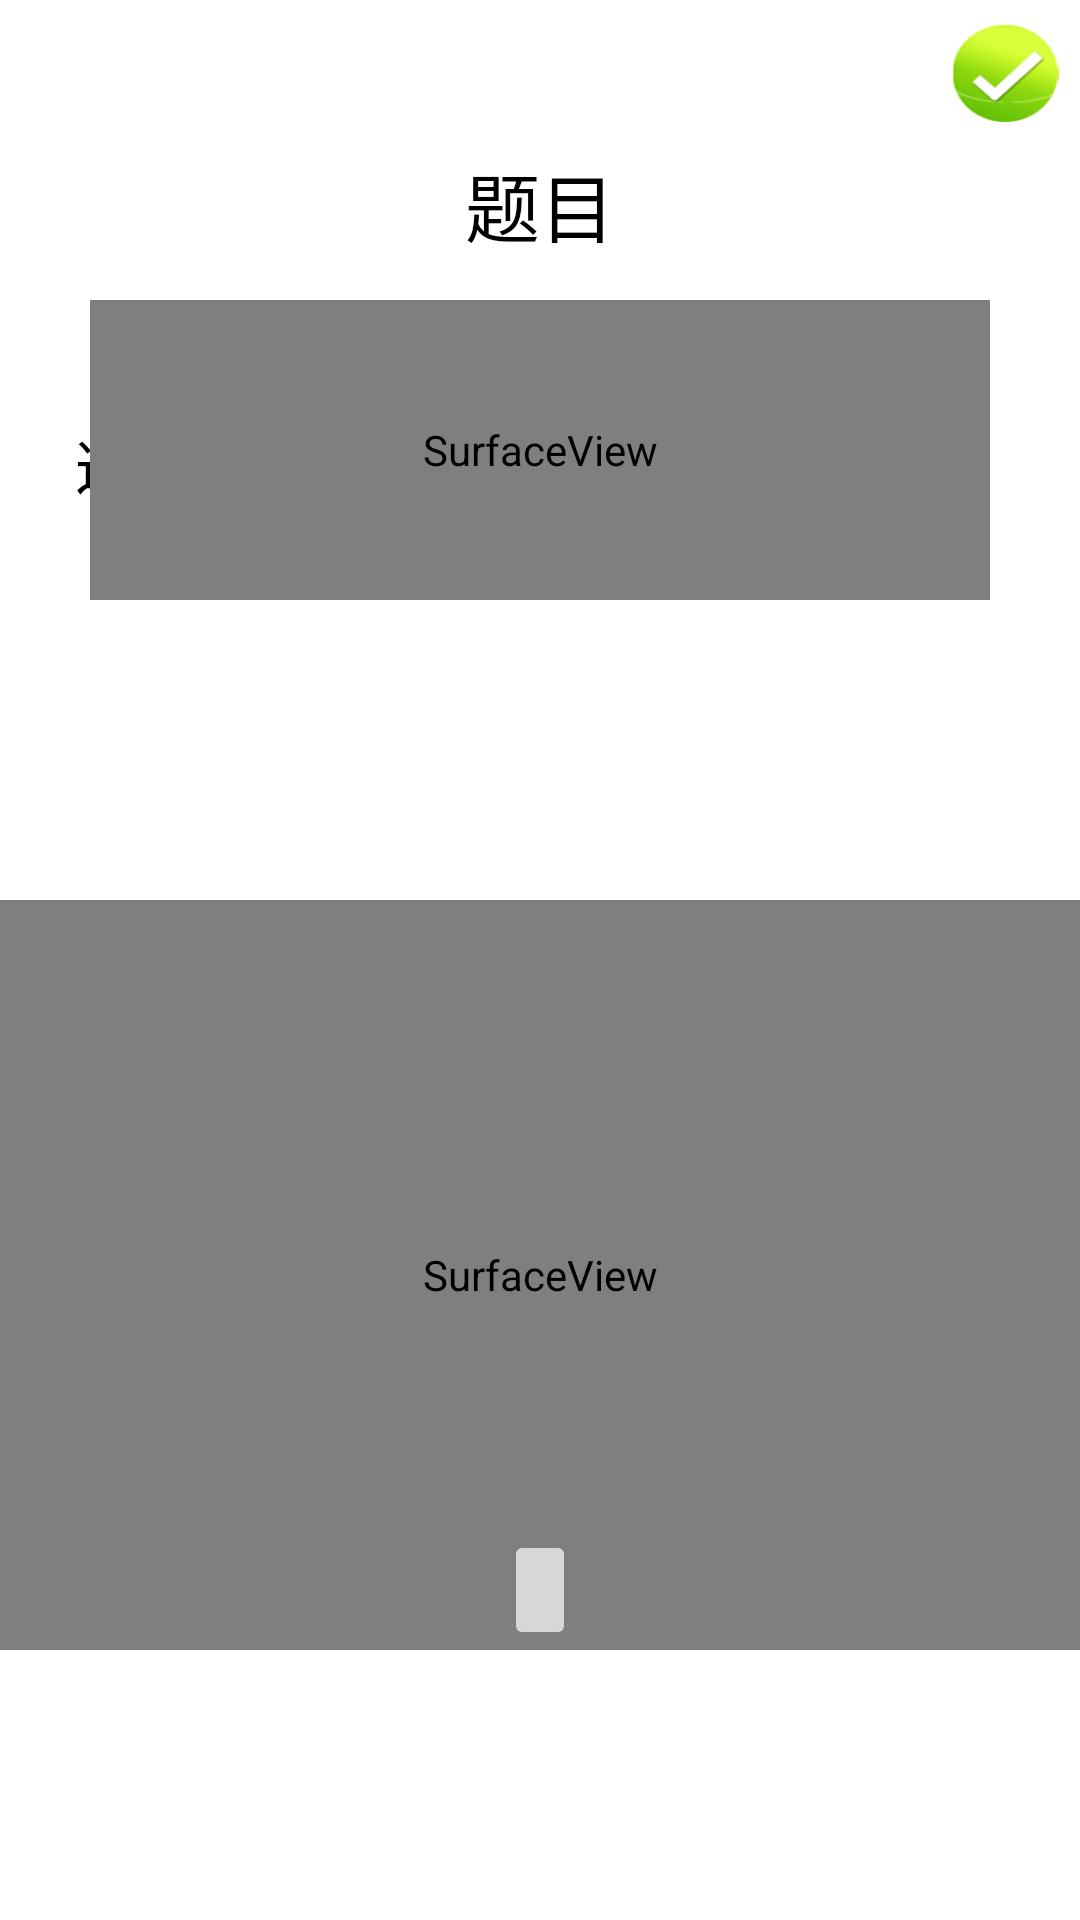

Named icons in this screenshot (1080px×1920px) and their centers, (x=x, y=y):
right: (x=1006, y=73)
